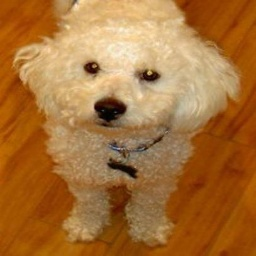dog: (21, 0, 234, 242)
